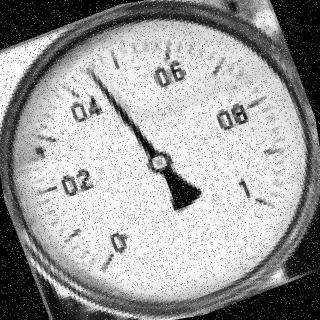gauge: (0, 0, 320, 320), (81, 230, 139, 284), (238, 181, 280, 223), (146, 149, 174, 176), (84, 59, 101, 81)
